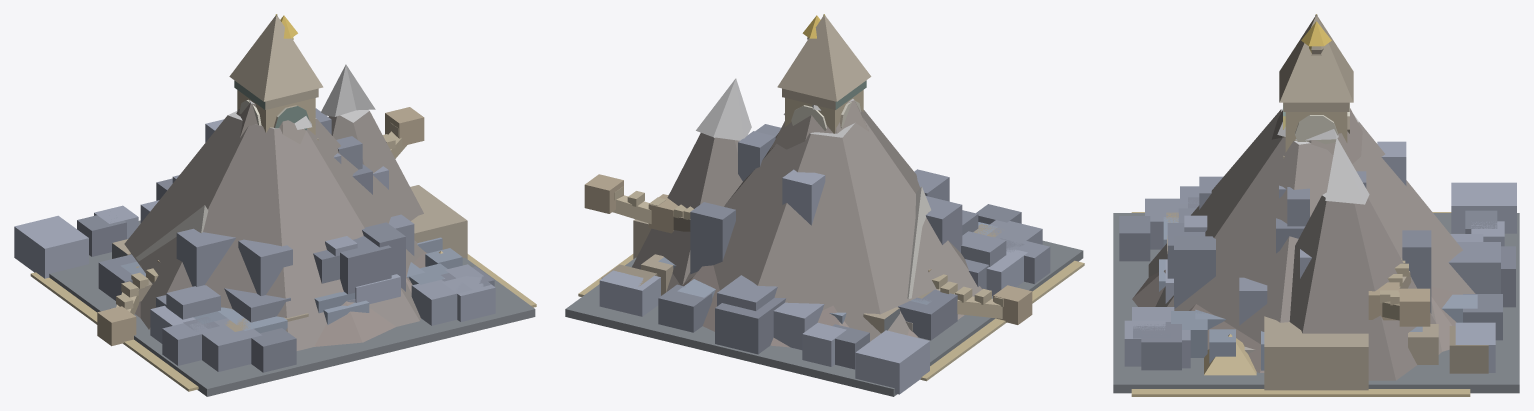
Rendered from landmarks.glb.
3 views of the same model, side by side, from view 1: azimuth 30°, elevation 25°; view 2: azimuth 150°, elevation 25°; view 3: azimuth 270°, elevation 25° (orthographic). The views are drawn at different scales.
Visible parts, largest first — view 1: skyline_dense, everest, bigben, skyline, greatwall, volcano, pyramids, opera, matterhorn, skyline_low; view 2: skyline_dense, everest, bigben, greatwall, pyramids, skyline_low, matterhorn, volcano, skyline, opera; view 3: everest, skyline_dense, bigben, skyline, pyramids, greatwall, skyline_low, volcano, matterhorn, liberty.
Part boxes in pixels (left/top/right/bottom): skyline_dense: left=14, top=108, right=535, bottom=396; everest: left=112, top=64, right=424, bottom=350; bigben: left=229, top=14, right=467, bottom=258; skyline: left=77, top=237, right=462, bottom=351; greatwall: left=97, top=107, right=424, bottom=346; volcano: left=135, top=252, right=427, bottom=346; pyramids: left=30, top=251, right=536, bottom=391; opera: left=136, top=205, right=208, bottom=261; matterhorn: left=236, top=100, right=305, bottom=143; skyline_low: left=112, top=239, right=308, bottom=331; skyline_dense: left=565, top=124, right=1083, bottom=396; everest: left=632, top=78, right=982, bottom=341; bigben: left=633, top=14, right=871, bottom=258; greatwall: left=584, top=174, right=1032, bottom=324; pyramids: left=578, top=254, right=1084, bottom=381; skyline_low: left=601, top=224, right=1001, bottom=333; matterhorn: left=769, top=99, right=868, bottom=150; volcano: left=682, top=265, right=964, bottom=347; skyline: left=647, top=222, right=997, bottom=350; opera: left=905, top=186, right=930, bottom=331; everest: left=1148, top=108, right=1475, bottom=380; skyline_dense: left=1113, top=141, right=1519, bottom=393; bigben: left=1264, top=14, right=1368, bottom=390; skyline: left=1147, top=217, right=1477, bottom=370; pyramids: left=1131, top=212, right=1470, bottom=396; greatwall: left=1368, top=258, right=1430, bottom=326; skyline_low: left=1166, top=212, right=1488, bottom=373; volcano: left=1132, top=270, right=1462, bottom=372; matterhorn: left=1271, top=108, right=1362, bottom=164; liberty: left=1301, top=21, right=1331, bottom=55.
Size of the model in its own units: 1.5 by 1.06 by 1.32.
